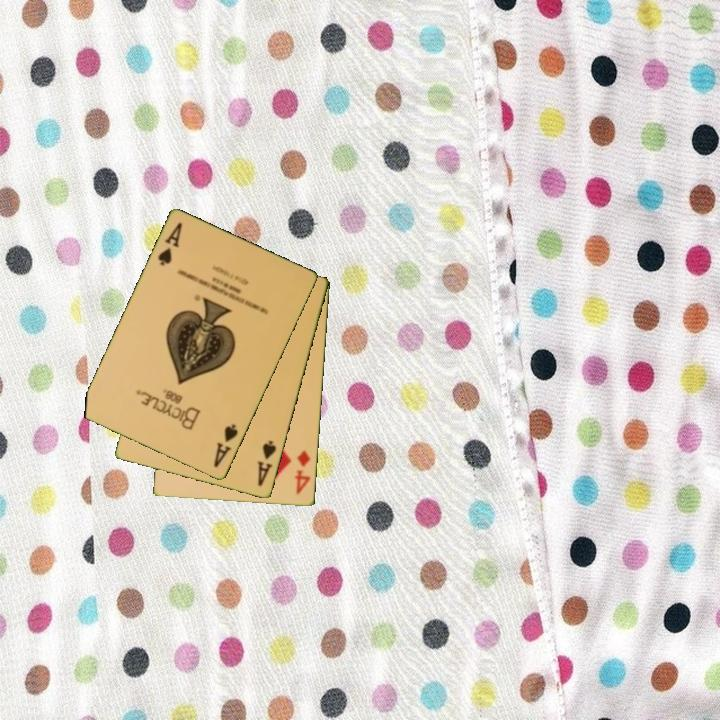4d: (292, 447, 313, 497)
As: (210, 421, 241, 471), (154, 219, 185, 269), (254, 437, 279, 489)
